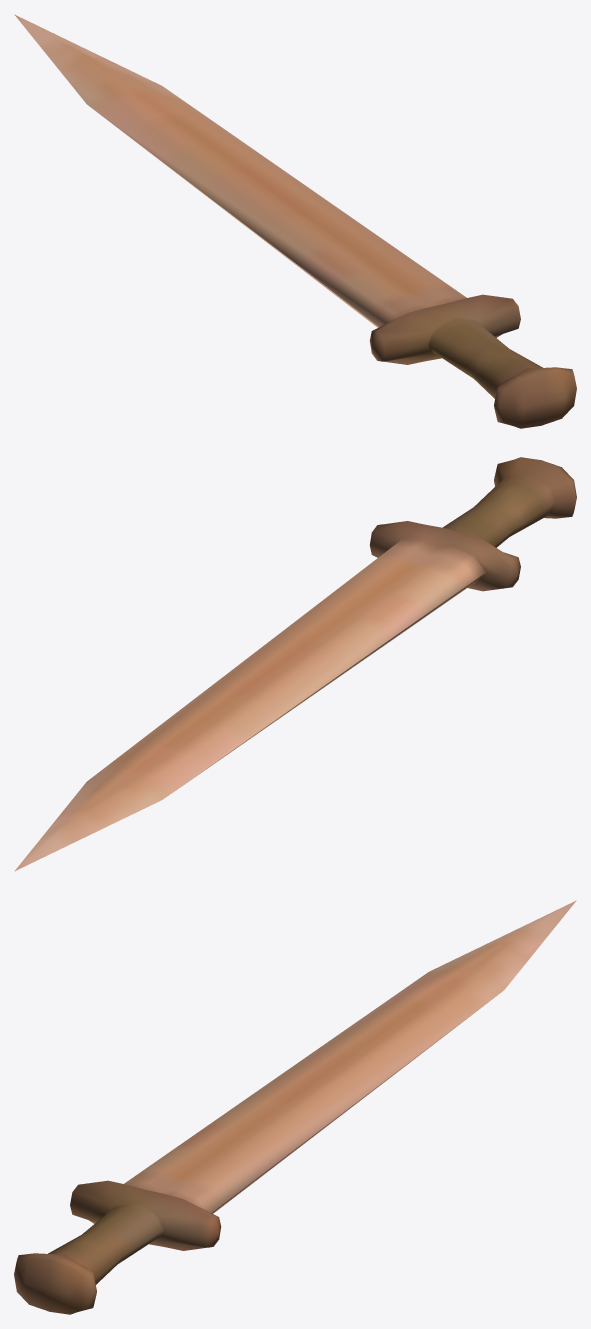
File: SwordBronze.fbx
The picture shows the model from 3 angles, top to bottom: view 1: azimuth 30°, elevation 25°; view 2: azimuth 150°, elevation 25°; view 3: azimuth 330°, elevation 25°; orthographic projection.
Visible parts, largest first — view 1: Viking_Sword (1); view 2: Viking_Sword (1); view 3: Viking_Sword (1).
Boxes of the visible parts, bbox=[...] form: Viking_Sword (1): bbox=[14, 14, 576, 428]; Viking_Sword (1): bbox=[14, 457, 576, 871]; Viking_Sword (1): bbox=[14, 900, 576, 1314].
Size of the model in its own units: 0.144 by 0.0541 by 0.9125.
1 material, 1 textured.
